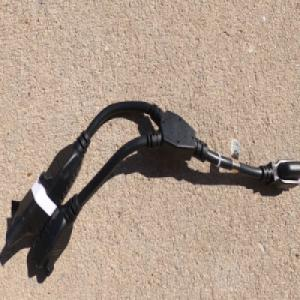Wire: (4, 99, 300, 279)
